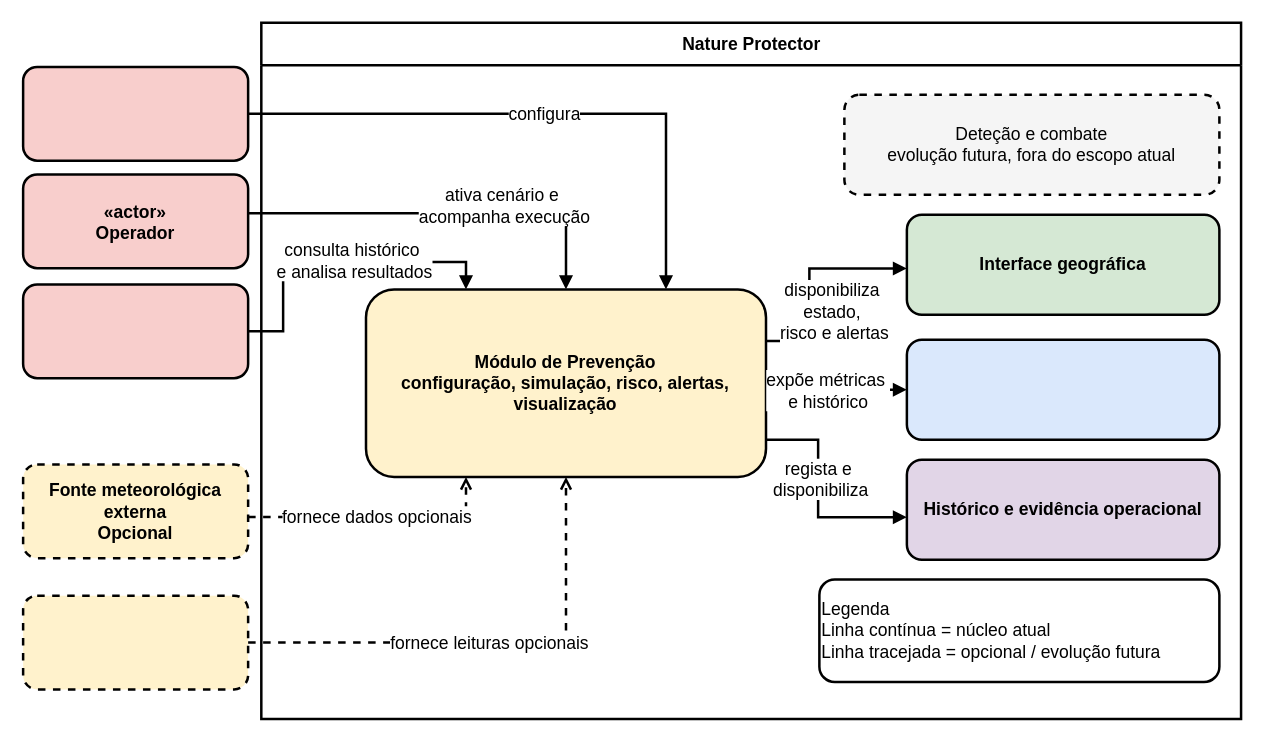
The diagram is 1264 pixels wide and 741 high, and some of its shapes have lost their labels. Here are the shapes that lost their labels. From the top down, the box of each, then its label:
(21, 65, 249, 161): «actor» Administrador
(21, 282, 249, 379): «actor» Analista
(905, 338, 1220, 440): Dashboards / Grafana
(21, 594, 249, 690): Sensor real / adaptador real Opcional
